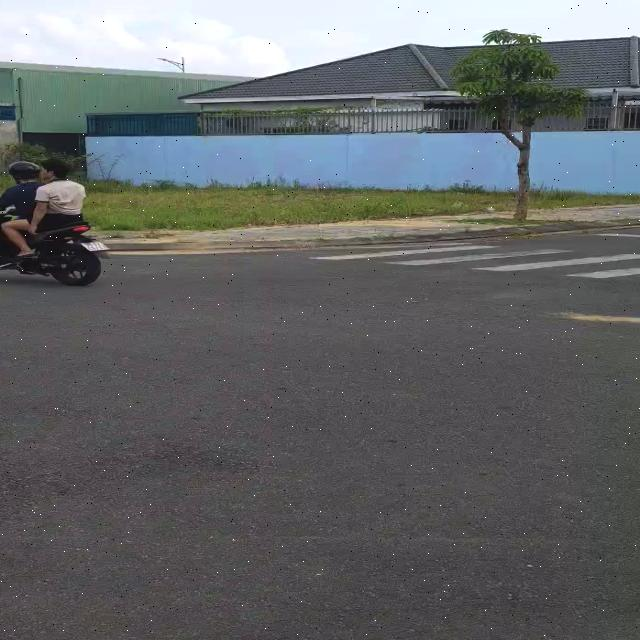helmet: (2, 161, 40, 187)
no_helmet: (42, 156, 70, 183)
